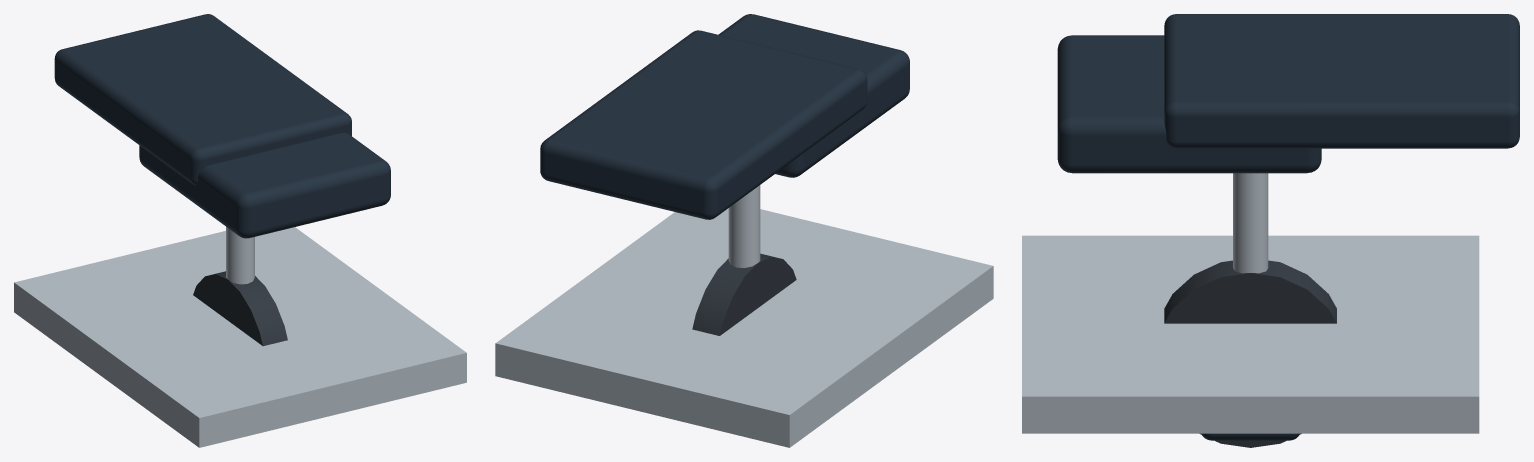
Rendered from plate_hip_thrust.glb.
The picture shows the model from 3 angles, left to right: view 1: azimuth 30°, elevation 25°; view 2: azimuth 150°, elevation 25°; view 3: azimuth 270°, elevation 25°; orthographic projection. The views are drawn at different scales.
Visible parts, largest first — view 1: base, back, seat, LweightPlate, post; view 2: base, back, seat, LweightPlate, post; view 3: base, back, seat, LweightPlate, post, hipPad.
Part boxes in pixels (<box>): base: <box>14,227,466,447</box>; back: <box>54,14,351,185</box>; seat: <box>139,132,390,238</box>; LweightPlate: <box>193,271,287,346</box>; post: <box>226,227,254,284</box>; base: <box>495,208,993,447</box>; back: <box>540,30,867,219</box>; seat: <box>718,14,909,177</box>; LweightPlate: <box>692,253,796,335</box>; post: <box>728,185,760,267</box>; base: <box>1022,235,1479,433</box>; back: <box>1164,14,1519,148</box>; seat: <box>1057,35,1321,173</box>; LweightPlate: <box>1164,260,1336,447</box>; post: <box>1233,173,1268,273</box>; hipPad: <box>1201,433,1299,440</box>.
Size of the model in its own units: 0.75 by 0.83 by 0.98.
